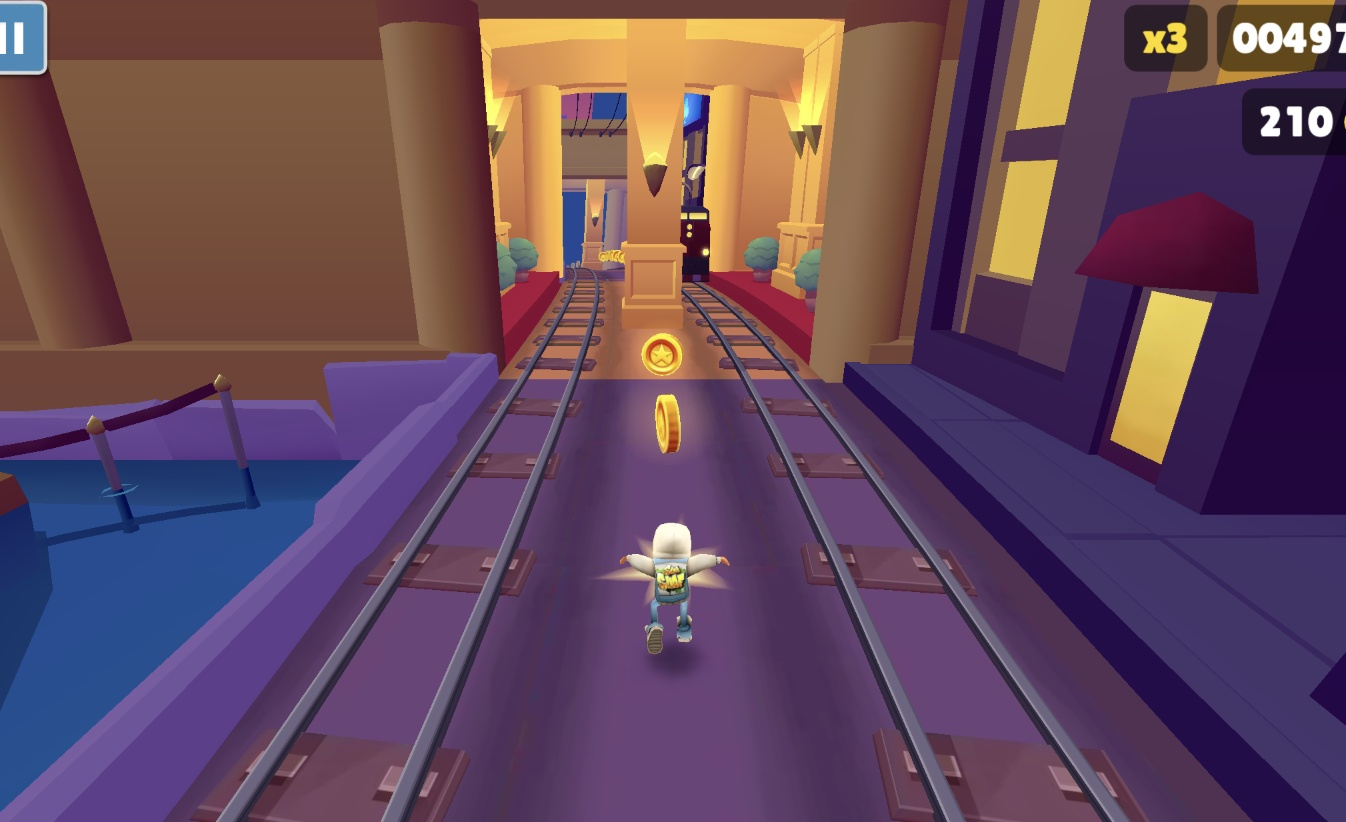pillar: (621, 19, 687, 328), (581, 178, 607, 268)
train: (683, 206, 712, 285)
